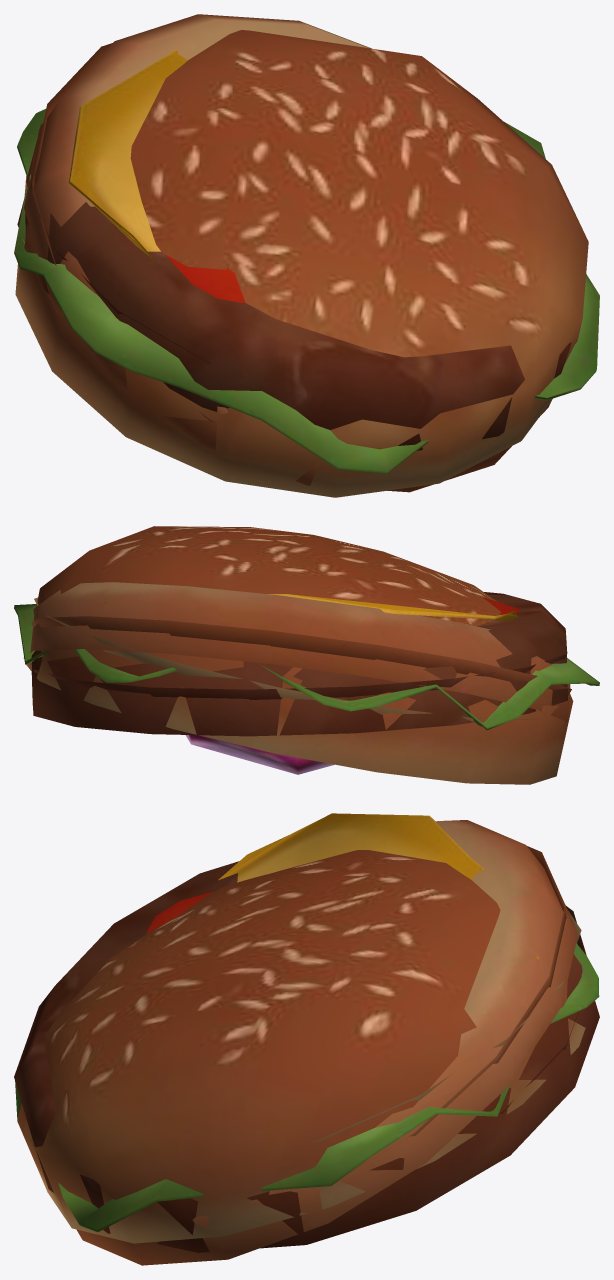
Rendered from burger_bits.glb.
3 renders of one model, top to bottom at view 1: azimuth 30°, elevation 25°; view 2: azimuth 150°, elevation 25°; view 3: azimuth 270°, elevation 25°, orthographic. The views are drawn at different scales.
Visible parts, largest first — view 1: burgerall.004, burgerall.021, burgerall.025, burgerall.002, burgerall.029, burgerall.037, burgerall.003; view 2: burgerall.004, burgerall.002, burgerall.021, burgerall.003, burgerall.025, burgerall.022, burgerall.005, burgerall.020, burgerall.029; view 3: burgerall.004, burgerall.002, burgerall.021, burgerall.025, burgerall.029, burgerall.003, burgerall.037, burgerall.005.
Part boxes in pixels (x1,y1,x2,y2): burgerall.004: (15,30,588,497); burgerall.021: (17,161,571,450); burgerall.025: (14,109,599,473); burgerall.002: (24,14,551,492); burgerall.029: (68,49,187,262); burgerall.037: (165,254,245,302); burgerall.003: (32,43,214,421); burgerall.004: (26,526,573,784); burgerall.002: (23,582,570,722); burgerall.021: (31,592,567,736); burgerall.003: (31,616,571,695); burgerall.025: (14,604,599,730); burgerall.022: (33,646,567,699); burgerall.005: (34,597,537,721); burgerall.020: (185,735,334,774); burgerall.029: (104,594,517,619); burgerall.004: (17,850,595,1243); burgerall.002: (76,820,577,1265); burgerall.021: (14,861,599,1252); burgerall.025: (15,943,599,1232); burgerall.029: (218,813,539,959); burgerall.003: (316,846,566,1193); burgerall.037: (146,891,214,933); burgerall.005: (311,909,581,1142).
Bounding box in the file's own units: 0.3283 × 0.1811 × 0.3007.
3 materials, 3 textured.
